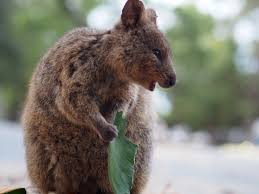quokka: (12, 3, 186, 194)
